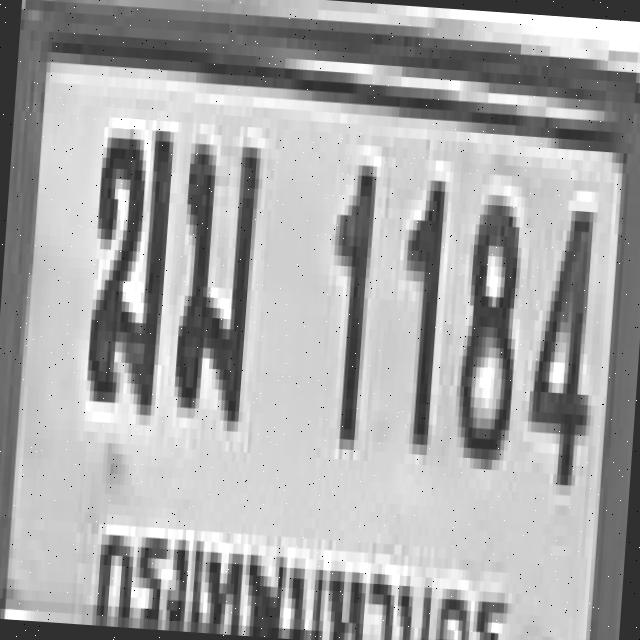1: (317, 153, 373, 439), (390, 168, 442, 444)
15KhorRaKhang: (82, 116, 170, 395)
4: (522, 198, 596, 476)
42MorMa: (168, 132, 258, 422)
8: (452, 183, 522, 460)
